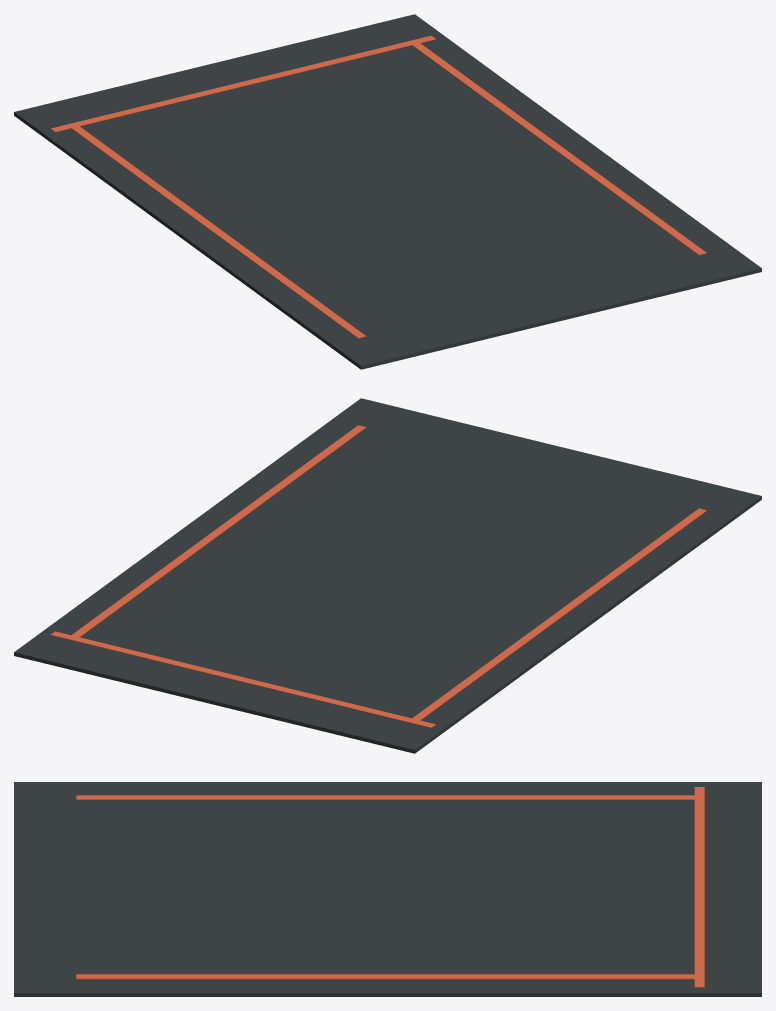
File: grand-prix-circuit-and-open-wheel-pit-box-tile-a318777d__15222.glb
3 views of the same model, one above another, from view 1: azimuth 30°, elevation 25°; view 2: azimuth 150°, elevation 25°; view 3: azimuth 270°, elevation 25° (orthographic). The views are drawn at different scales.
Parts seen in each view (by area): view 1: pit-box-tile; view 2: pit-box-tile; view 3: pit-box-tile.
Part boxes in pixels (box(x1,y1,x2,y2)): pit-box-tile: box(14, 14, 761, 369); pit-box-tile: box(14, 398, 761, 753); pit-box-tile: box(14, 782, 761, 996).
Bounding box in the file's own units: 4 × 0.04 × 6.
